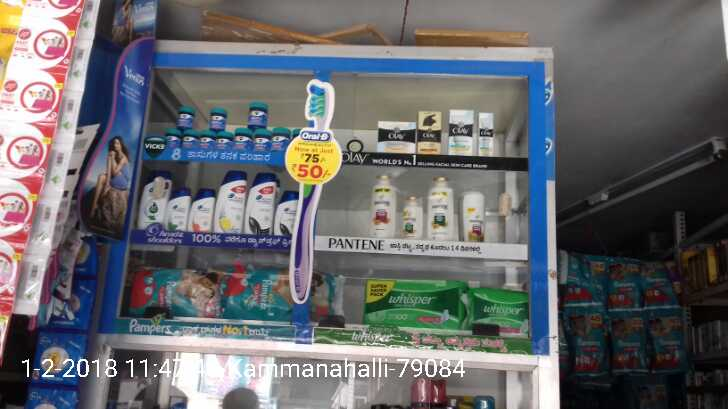beauty: (242, 172, 273, 239), (367, 173, 397, 237), (214, 172, 243, 234), (428, 176, 452, 240), (140, 169, 164, 231), (377, 119, 414, 154), (463, 190, 485, 244), (447, 109, 473, 154), (416, 109, 440, 156), (189, 186, 214, 231), (276, 191, 297, 238), (404, 194, 424, 241), (166, 189, 187, 231), (476, 112, 492, 153)
pharmacy: (364, 279, 463, 331), (131, 269, 224, 322), (222, 264, 298, 322), (466, 288, 534, 338), (245, 97, 267, 128), (176, 105, 196, 130), (251, 130, 274, 151), (213, 129, 233, 152), (272, 123, 288, 150), (210, 107, 226, 132), (235, 126, 253, 148)
